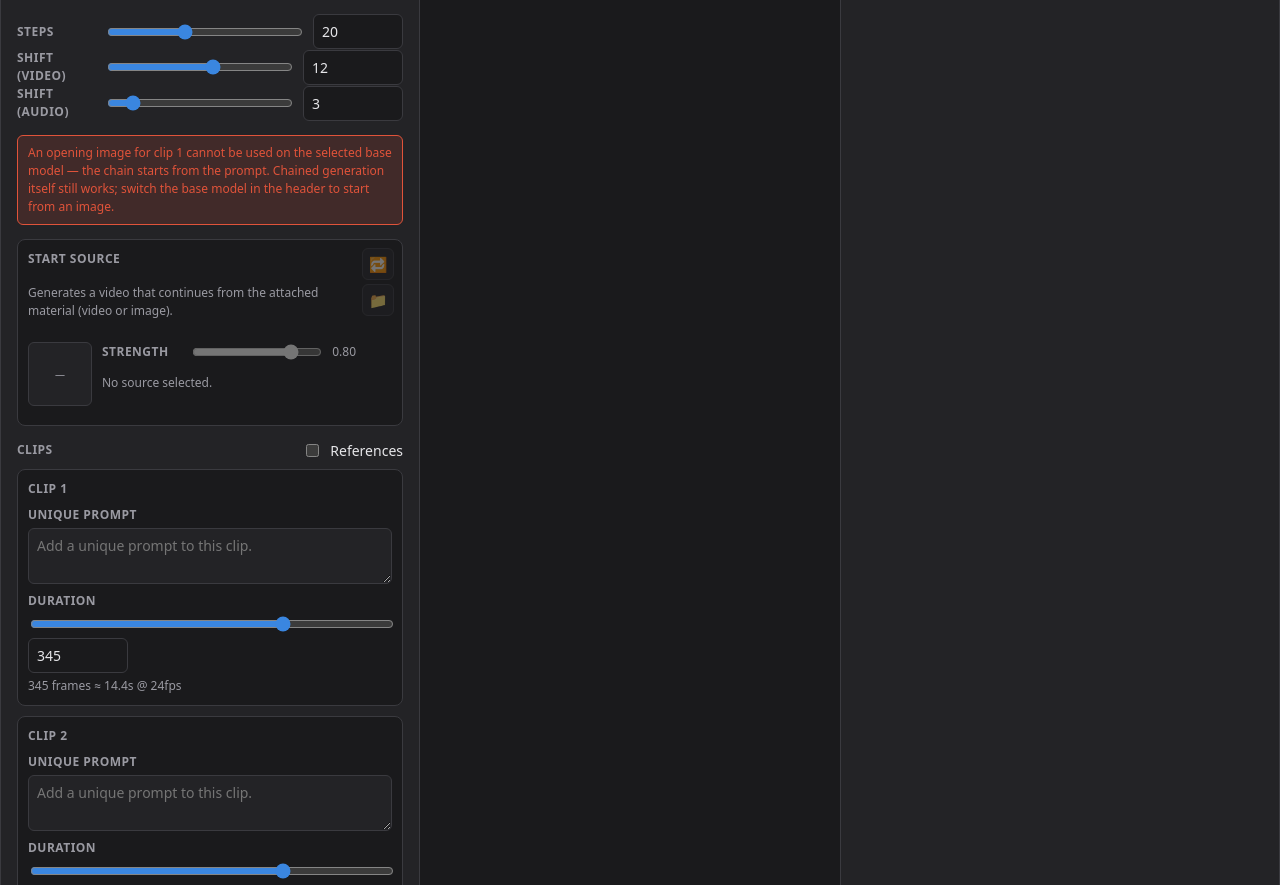
ChainedScreen — §1-109 per-clip References › H3: off by default; on shows one embedded accordion per clip (no Enable, no ON badge, no Audio to video)
(page scrolled)
Expected: the text "Clip 1" is shown, x1=28 y1=480 x2=68 y2=498
What coordinates should you click on to do the following:
click the checkbox labelled "References"
I would click on:
 (313, 450)
Its box is x1=306 y1=444 x2=319 y2=457.
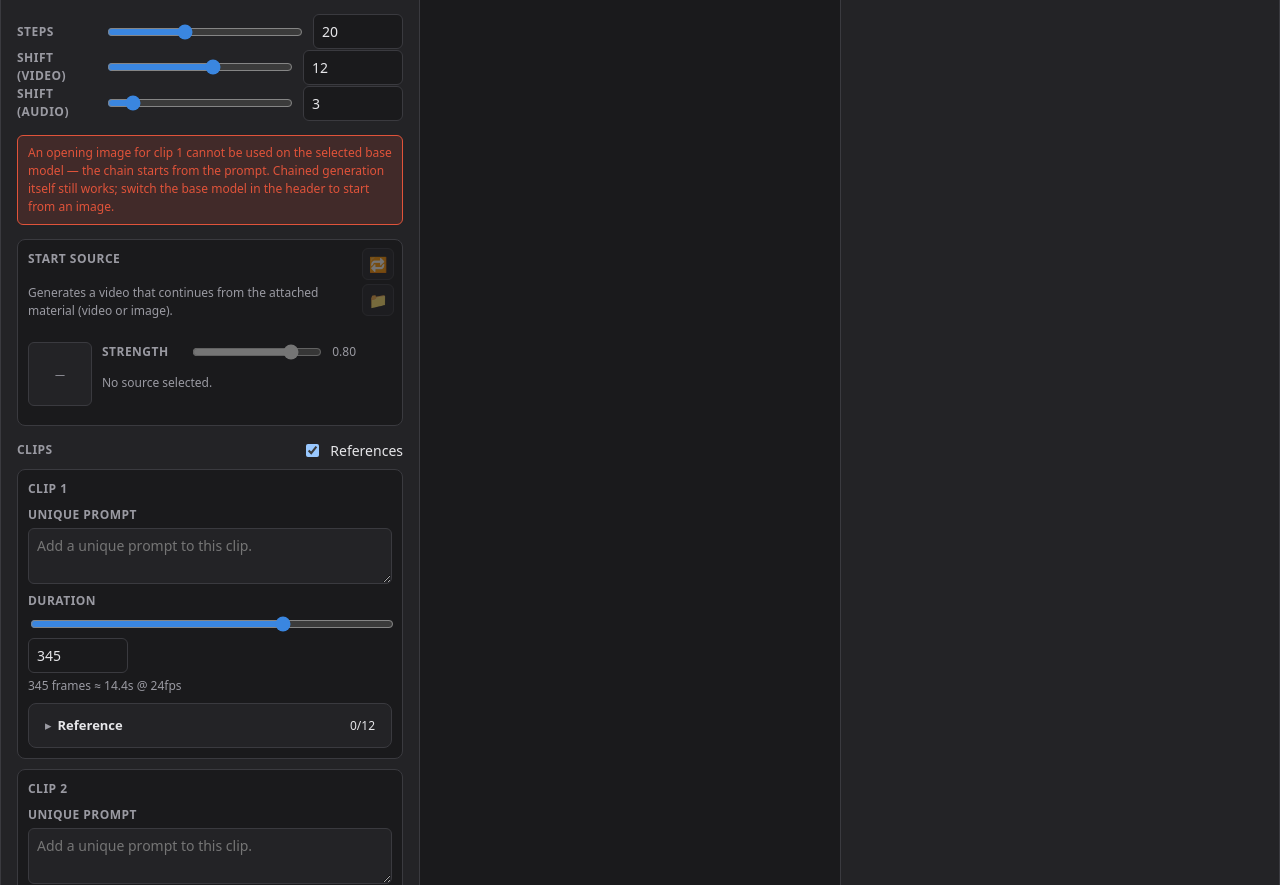
Now the number of elements with class "ref-accordion" is 2
